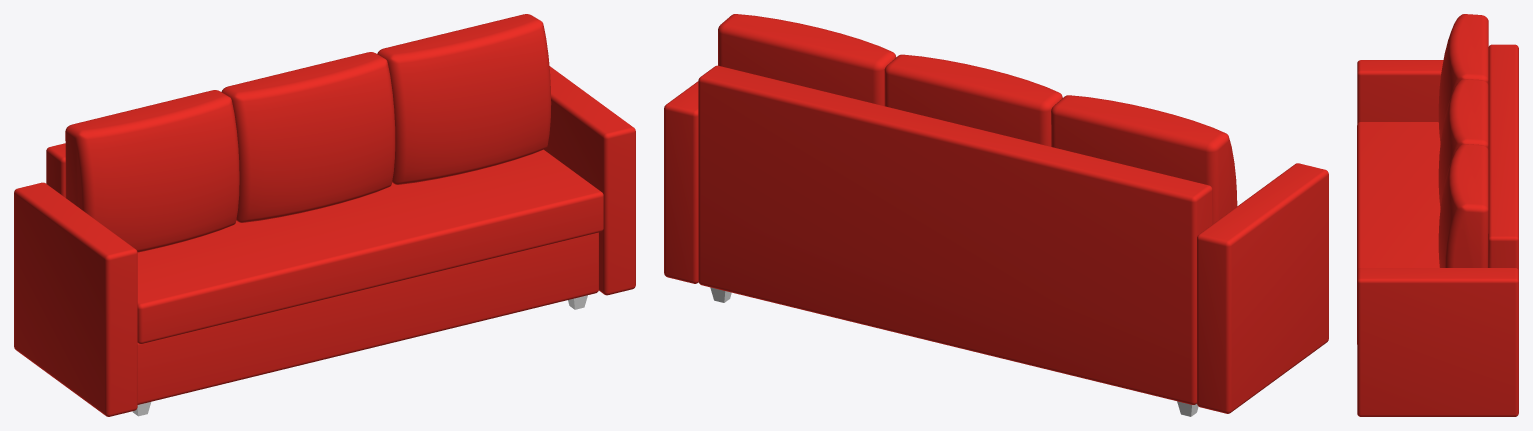
The model's file is kanapa.fbx.
3 renders of one model, left to right at view 1: azimuth 30°, elevation 25°; view 2: azimuth 150°, elevation 25°; view 3: azimuth 270°, elevation 25°, orthographic. The views are drawn at different scales.
Parts seen in each view (by area): view 1: poduchy, siedzisko, zimne łokcie, kanapa; view 2: kanapa, zimne łokcie, poduchy; view 3: zimne łokcie, poduchy, siedzisko, kanapa.
Boxes of the visible parts, box(x1,y1,x2,y2) form: poduchy: box(65, 14, 551, 252); siedzisko: box(137, 149, 603, 343); zimne łokcie: box(14, 66, 635, 416); kanapa: box(46, 143, 598, 404); kanapa: box(698, 65, 1212, 404); zimne łokcie: box(664, 81, 1328, 413); poduchy: box(718, 14, 1237, 223); zimne łokcie: box(1357, 60, 1518, 416); poduchy: box(1438, 14, 1488, 267); siedzisko: box(1357, 122, 1440, 344); kanapa: box(1488, 44, 1518, 270).
Bounding box in the file's own units: 681 × 305 × 210.
